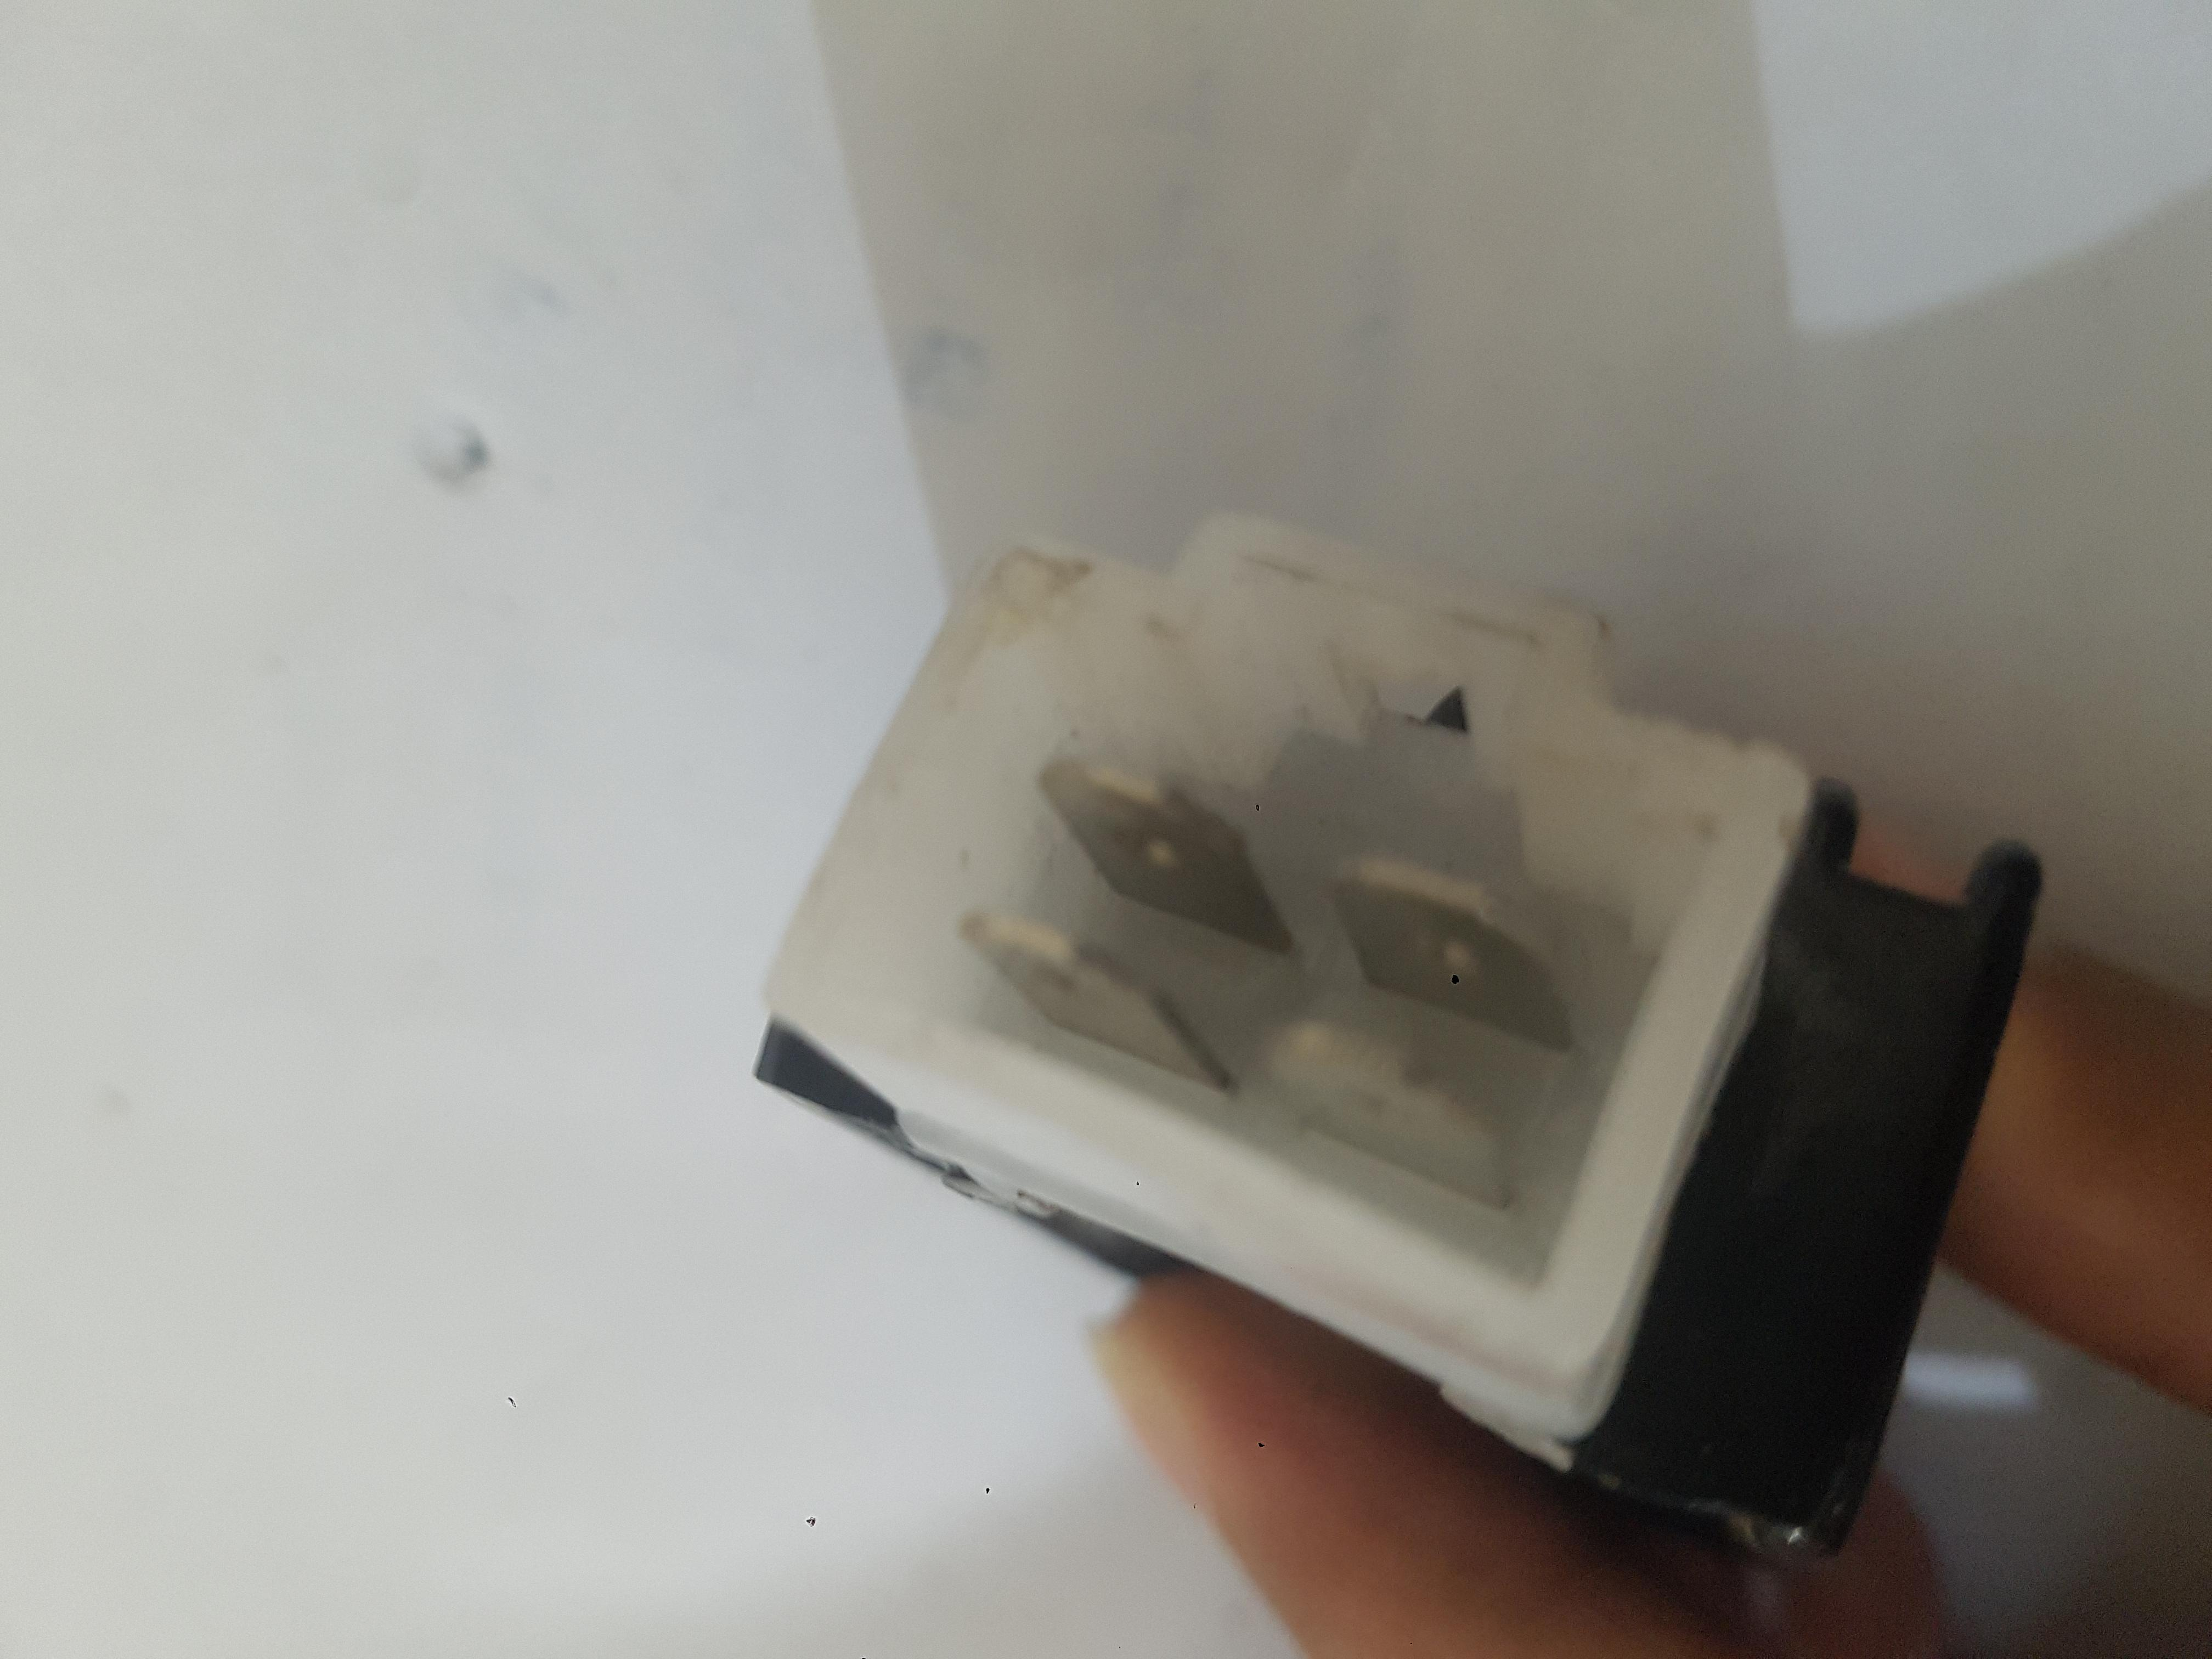electronic: (156, 72, 1465, 1187)
